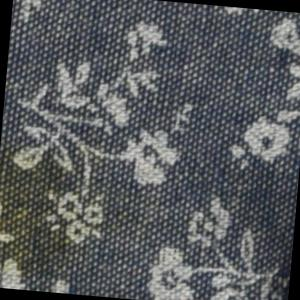Damage: (251, 251, 292, 300)
Stain: (1, 136, 109, 296)
